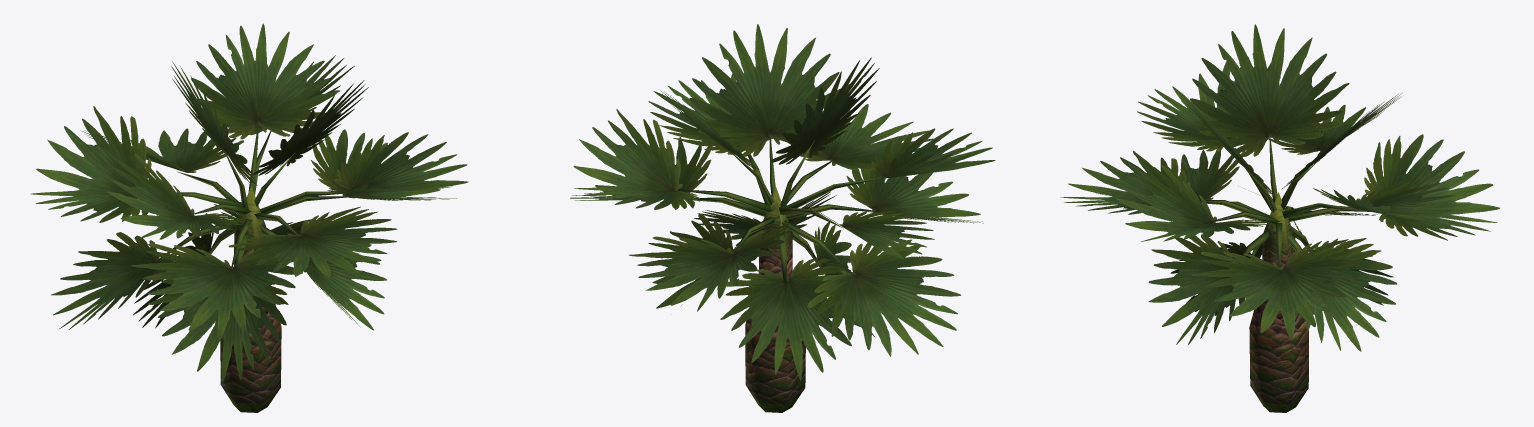
The model's file is environment_Tree_zhangshu_01_a.FBX.
The picture shows the model from 3 angles, left to right: view 1: azimuth 30°, elevation 25°; view 2: azimuth 150°, elevation 25°; view 3: azimuth 270°, elevation 25°; orthographic projection. The views are drawn at different scales.
Visible parts, largest first — view 1: environment_Tree_zhangshu_01_a0, environment_Tree_zhangshu_01_b0; view 2: environment_Tree_zhangshu_01_a0, environment_Tree_zhangshu_01_b0; view 3: environment_Tree_zhangshu_01_a0, environment_Tree_zhangshu_01_b0.
Part boxes in pixels (x1,y1,x2,y2): environment_Tree_zhangshu_01_a0: (30,23,468,382); environment_Tree_zhangshu_01_b0: (220,186,281,412); environment_Tree_zhangshu_01_a0: (570,24,995,379); environment_Tree_zhangshu_01_b0: (745,187,805,412); environment_Tree_zhangshu_01_a0: (1060,24,1499,351); environment_Tree_zhangshu_01_b0: (1249,192,1308,412).
Size of the model in its own units: 376 by 323 by 380.
Materials: 2 (2 with a texture image).
